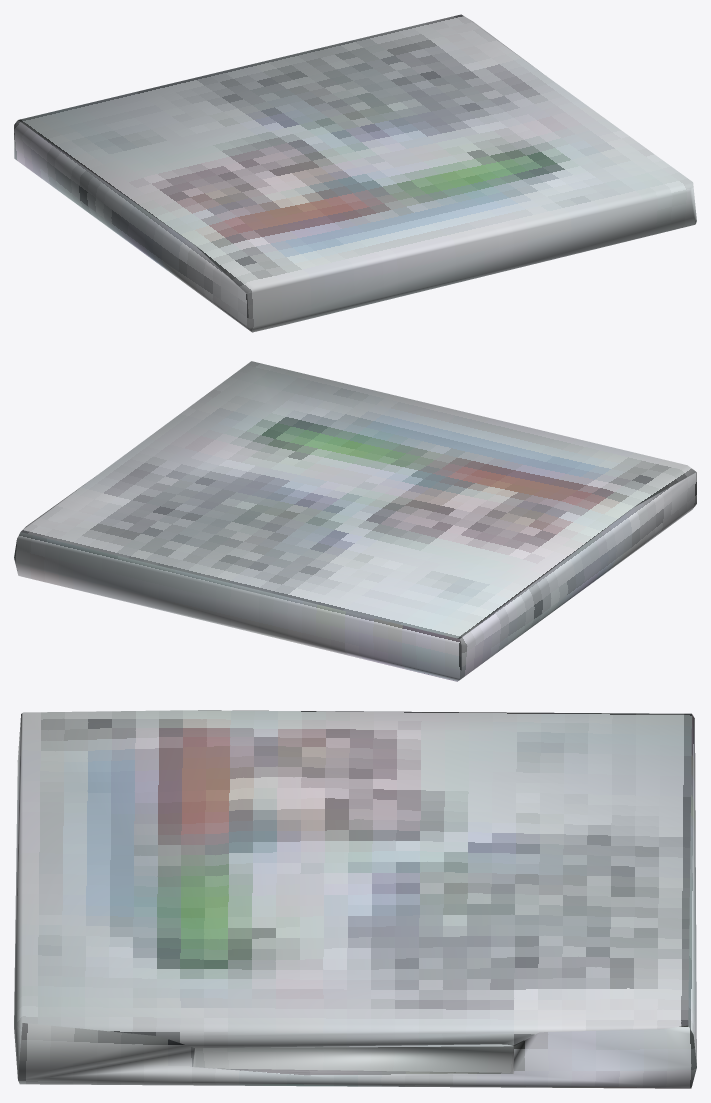
The model's file is Mario_Luigi_Dream_Team_Nintendo_3DS_Game-low.glb.
3 views of the same model, one above another, from view 1: azimuth 30°, elevation 25°; view 2: azimuth 150°, elevation 25°; view 3: azimuth 270°, elevation 25° (orthographic). The views are drawn at different scales.
Parts seen in each view (by area): view 1: Mario_Luigi_Dream_Team_Nintendo_3DS_Game; view 2: Mario_Luigi_Dream_Team_Nintendo_3DS_Game; view 3: Mario_Luigi_Dream_Team_Nintendo_3DS_Game.
Boxes of the visible parts, x1,y1,x2,y2 form: Mario_Luigi_Dream_Team_Nintendo_3DS_Game: (14,14,696,332); Mario_Luigi_Dream_Team_Nintendo_3DS_Game: (14,361,696,681); Mario_Luigi_Dream_Team_Nintendo_3DS_Game: (14,710,696,1088).
Bounding box in the file's own units: 0.1372 × 0.0158 × 0.124.
Materials: 1 (1 with a texture image).
